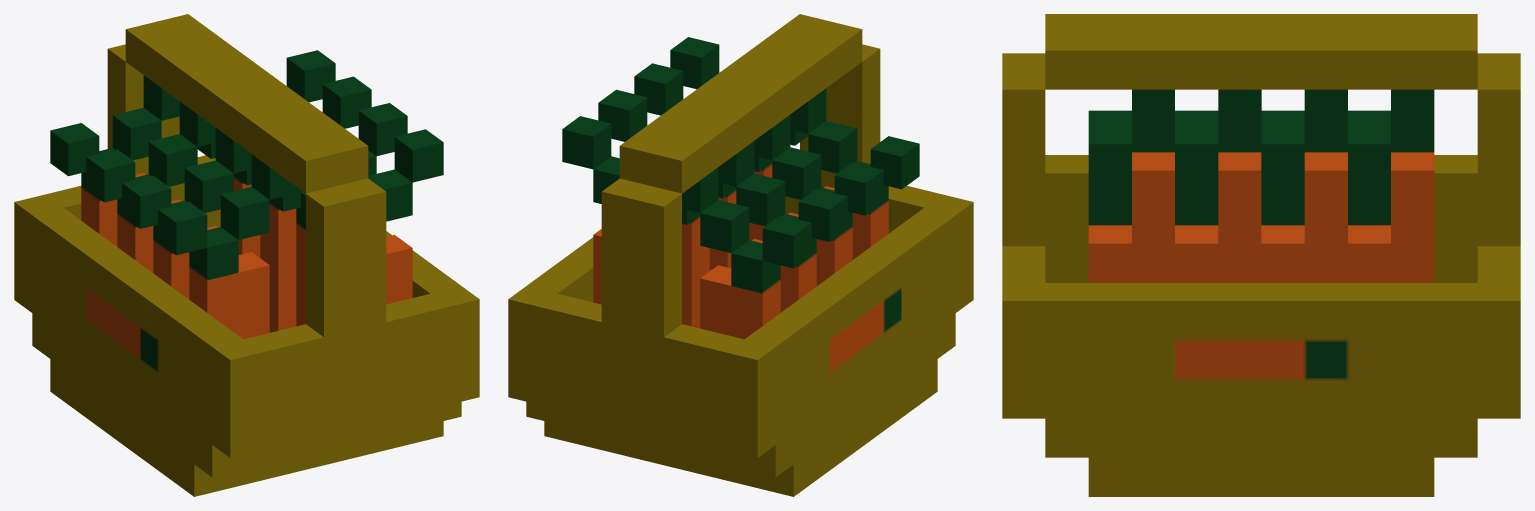
The model's file is chapter2_carrotbasket.fbx.
3 views of the same model, side by side, from view 1: azimuth 30°, elevation 25°; view 2: azimuth 150°, elevation 25°; view 3: azimuth 270°, elevation 25° (orthographic). The views are drawn at different scales.
Parts seen in each view (by area): view 1: Matrix, Matrix_8, Matrix_6, Matrix_5, Matrix_7, Matrix_2, Matrix_4, Matrix_3, Matrix_1; view 2: Matrix, Matrix_5, Matrix_8, Matrix_6, Matrix_7, Matrix_2, Matrix_1, Matrix_3, Matrix_4; view 3: Matrix, Matrix_7, Matrix_5, Matrix_6, Matrix_8, Matrix_2, Matrix_3, Matrix_4, Matrix_1.
Part boxes in pixels (<box>): Matrix: <box>14,14,479,496</box>; Matrix_8: <box>158,154,300,339</box>; Matrix_6: <box>86,101,215,272</box>; Matrix_5: <box>50,75,179,246</box>; Matrix_7: <box>122,128,251,299</box>; Matrix_2: <box>233,76,371,332</box>; Matrix_4: <box>301,129,443,304</box>; Matrix_3: <box>269,103,407,326</box>; Matrix_1: <box>197,50,335,257</box>; Matrix: <box>508,14,973,496</box>; Matrix_5: <box>682,167,811,339</box>; Matrix_8: <box>790,88,919,259</box>; Matrix_6: <box>718,141,847,312</box>; Matrix_7: <box>754,115,883,285</box>; Matrix_2: <box>598,89,736,328</box>; Matrix_1: <box>562,116,700,304</box>; Matrix_3: <box>634,63,772,270</box>; Matrix_4: <box>670,37,808,240</box>; Matrix: <box>1002,14,1520,496</box>; Matrix_7: <box>1218,89,1261,282</box>; Matrix_5: <box>1391,89,1434,282</box>; Matrix_6: <box>1304,89,1347,282</box>; Matrix_8: <box>1132,89,1174,282</box>; Matrix_2: <box>1261,110,1304,282</box>; Matrix_3: <box>1175,110,1218,282</box>; Matrix_4: <box>1088,110,1131,282</box>; Matrix_1: <box>1348,110,1390,282</box>.
Bounding box in the file's own units: 8 × 10 × 12.
